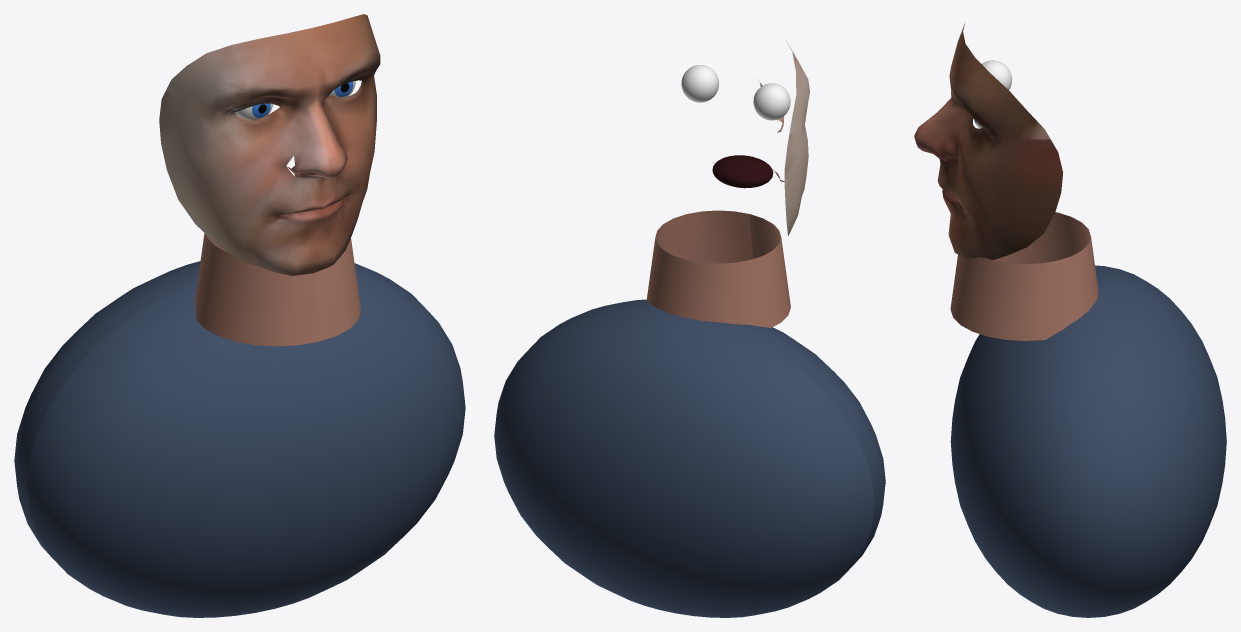
3 views of the same model, side by side, from view 1: azimuth 30°, elevation 25°; view 2: azimuth 150°, elevation 25°; view 3: azimuth 270°, elevation 25° (orthographic). The views are drawn at different scales.
Parts seen in each view (by area): view 1: Wolf3D_Outfit_Top, Wolf3D_Head, Wolf3D_Neck; view 2: Wolf3D_Outfit_Top, Wolf3D_Neck, Wolf3D_Head, Wolf3D_Teeth, EyeLeft, EyeRight; view 3: Wolf3D_Outfit_Top, Wolf3D_Head, Wolf3D_Neck, EyeRight.
Boxes of the visible parts, bbox=[...] form: Wolf3D_Outfit_Top: bbox=[14, 261, 465, 617]; Wolf3D_Head: bbox=[159, 14, 380, 276]; Wolf3D_Neck: bbox=[195, 233, 360, 346]; Wolf3D_Outfit_Top: bbox=[494, 299, 885, 617]; Wolf3D_Neck: bbox=[646, 210, 790, 327]; Wolf3D_Head: bbox=[713, 41, 809, 236]; Wolf3D_Teeth: bbox=[712, 155, 773, 188]; EyeLeft: bbox=[681, 65, 718, 102]; EyeRight: bbox=[753, 83, 790, 120]; Wolf3D_Outfit_Top: bbox=[950, 265, 1226, 617]; Wolf3D_Head: bbox=[914, 24, 1063, 259]; Wolf3D_Neck: bbox=[950, 212, 1098, 340]; EyeRight: bbox=[982, 60, 1012, 89].
Size of what is drawn, in the model's own units: 0.3515 by 0.4934 by 0.2492.
Materials: 7 (1 with a texture image).
